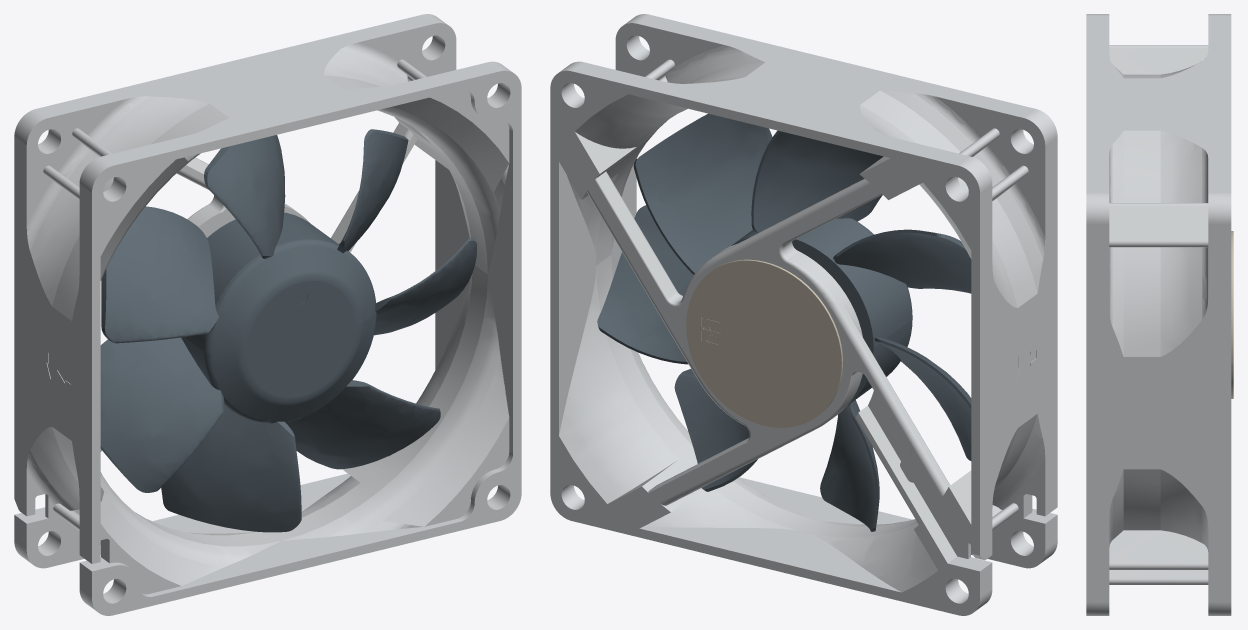
File: noctua-nf-r8-redux.glb
3 views of the same model, side by side, from view 1: azimuth 30°, elevation 25°; view 2: azimuth 150°, elevation 25°; view 3: azimuth 270°, elevation 25° (orthographic). The views are drawn at different scales.
Parts seen in each view (by area): view 1: NF-R8-Frame-Public, NF-R8-Impeller-Public; view 2: NF-R8-Frame-Public, NF-R8-Impeller-Public, Fan-Label-D29mm-Redux; view 3: NF-R8-Frame-Public, Fan-Label-D29mm-Redux.
Part boxes in pixels (x1,y1,x2,y2): NF-R8-Frame-Public: (14, 14, 521, 615); NF-R8-Impeller-Public: (100, 129, 476, 532); NF-R8-Frame-Public: (550, 14, 1057, 615); NF-R8-Impeller-Public: (597, 113, 971, 531); Fan-Label-D29mm-Redux: (686, 259, 842, 427); NF-R8-Frame-Public: (1086, 14, 1231, 615); Fan-Label-D29mm-Redux: (1231, 231, 1233, 398).
Size of the model in its own units: 0.08 by 0.08 by 0.0254.
